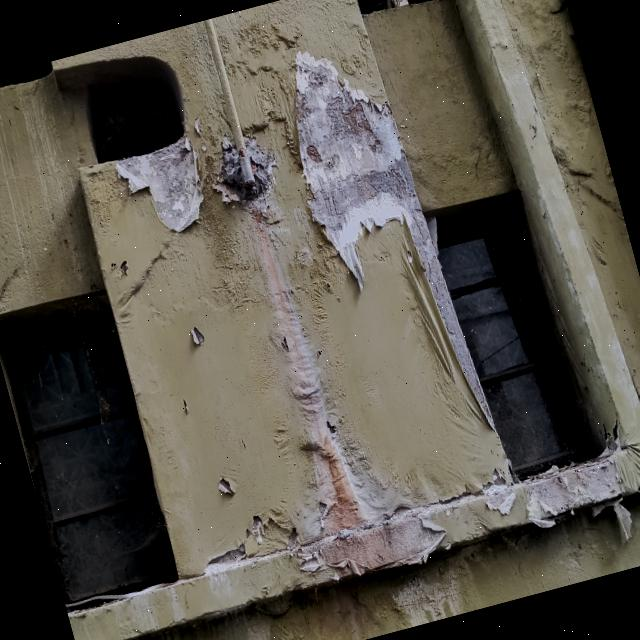Paint Peeling: (295, 52, 501, 448), (274, 292, 406, 534), (115, 136, 203, 232), (299, 518, 444, 574), (524, 459, 620, 527), (207, 507, 298, 567), (390, 559, 462, 625), (214, 135, 276, 202)
